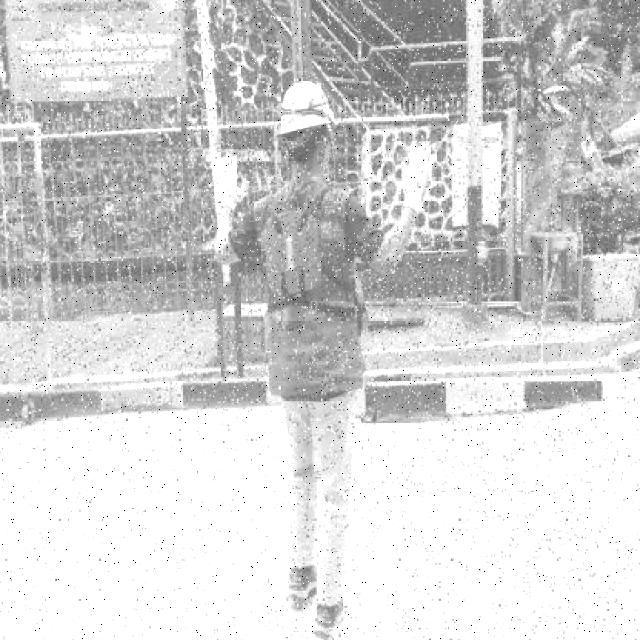Boots: (287, 552, 321, 608), (312, 586, 346, 640)
Gloves: (400, 138, 438, 212), (210, 152, 250, 212)
Helmet: (274, 76, 334, 138)
Mask: (258, 202, 324, 302)
